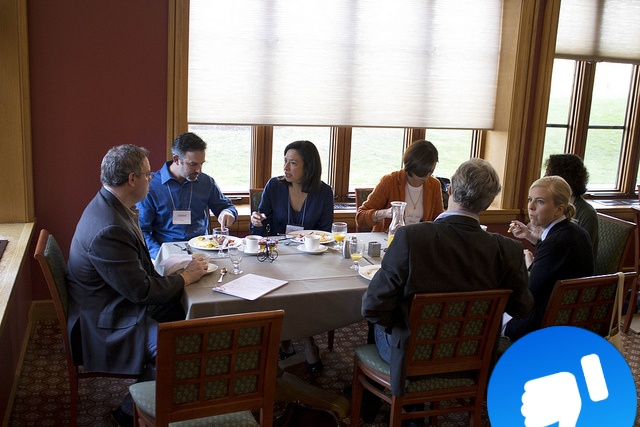like: (487, 326, 637, 427)
